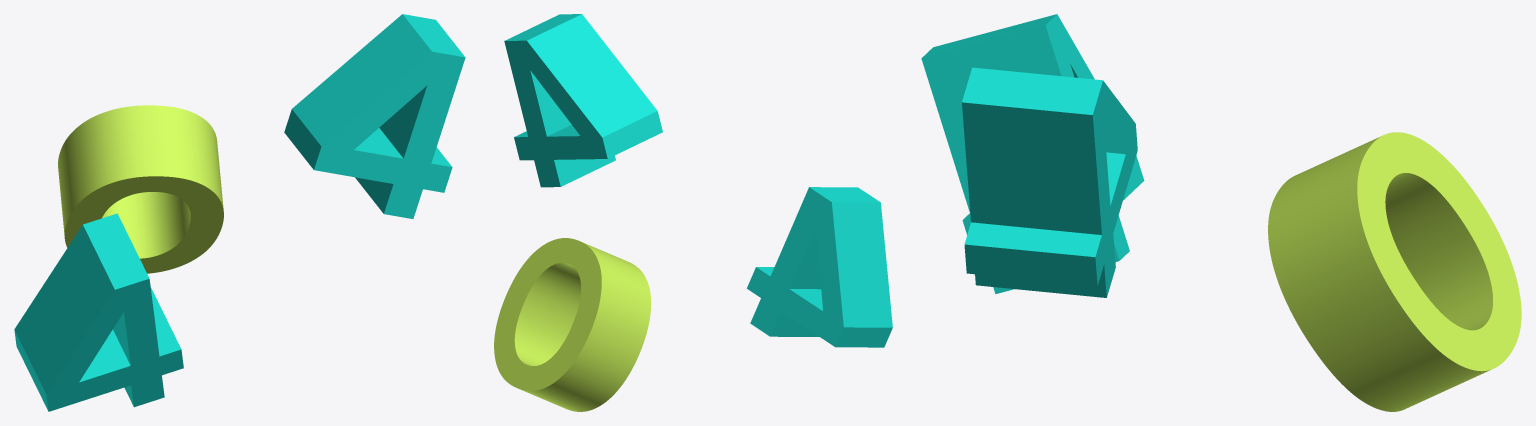
3 renders of one model, left to right at view 1: azimuth 30°, elevation 25°; view 2: azimuth 150°, elevation 25°; view 3: azimuth 270°, elevation 25°, orthographic. The views are drawn at different scales.
Parts seen in each view (by area): view 1: Shape 0 (×3); view 2: Shape 0 (×3); view 3: Shape 0 (×3).
Boxes of the visible parts, box(x1,y1,x2,y2) form: Shape 0 (×3): box(14, 14, 465, 411); Shape 0 (×3): box(494, 14, 892, 411); Shape 0 (×3): box(921, 14, 1521, 411).
Bounding box in the file's own units: 2.43 × 1.69 × 2.15.
